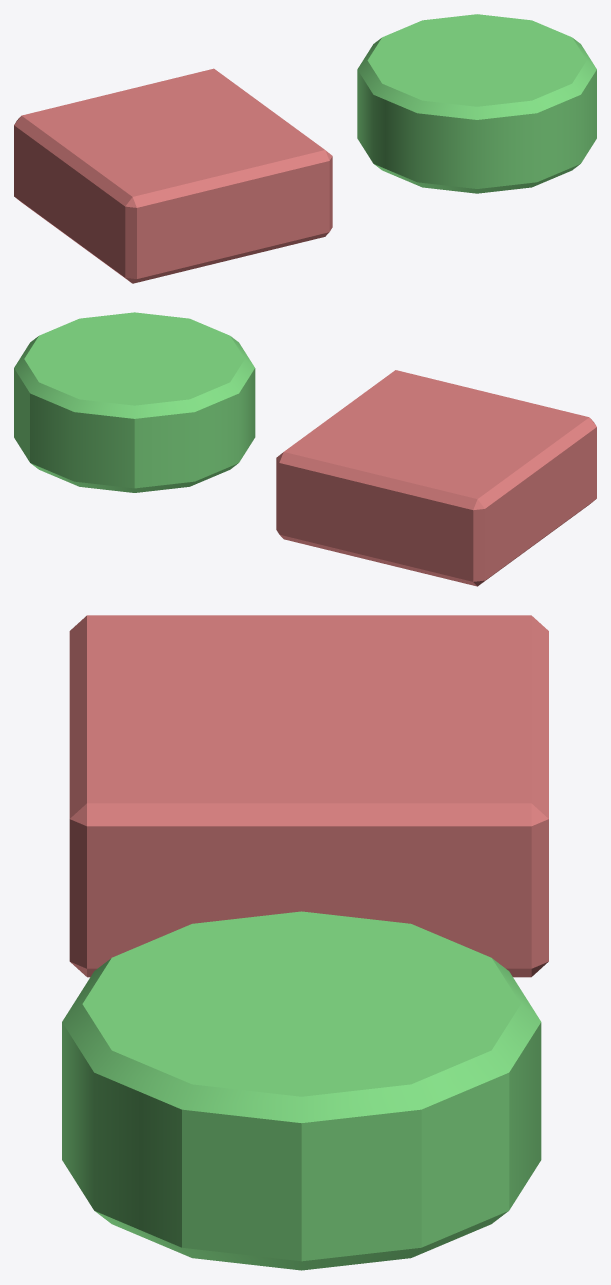
Rendered from ScaleItems.fbx.
3 renders of one model, top to bottom at view 1: azimuth 30°, elevation 25°; view 2: azimuth 150°, elevation 25°; view 3: azimuth 270°, elevation 25°, orthographic. The views are drawn at different scales.
Visible parts, largest first — view 1: Box001, Cylinder001; view 2: Box001, Cylinder001; view 3: Box001, Cylinder001.
Part boxes in pixels (<box>): Box001: <box>14,68,332,283</box>; Cylinder001: <box>357,14,596,193</box>; Box001: <box>276,370,596,586</box>; Cylinder001: <box>14,312,255,492</box>; Box001: <box>69,615,548,977</box>; Cylinder001: <box>62,911,541,1270</box>.
Size of the model in its own units: 1227 by 508 by 200.
